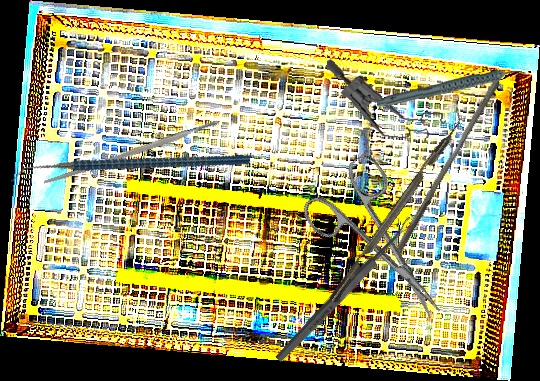Chopper: (10, 89, 252, 249), (319, 105, 471, 304)
Handpiece: (376, 66, 527, 111)
Iris Scissors: (294, 150, 470, 343)
Pusher: (394, 75, 502, 258)
Scalpel Handle: (42, 119, 220, 187)
Speculum: (319, 58, 452, 146)
Surgical Spoon: (273, 215, 418, 365)
